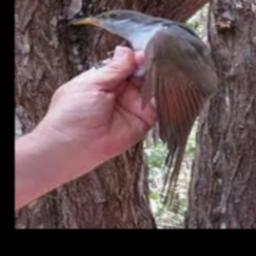Cuckoo: (70, 10, 218, 208)
